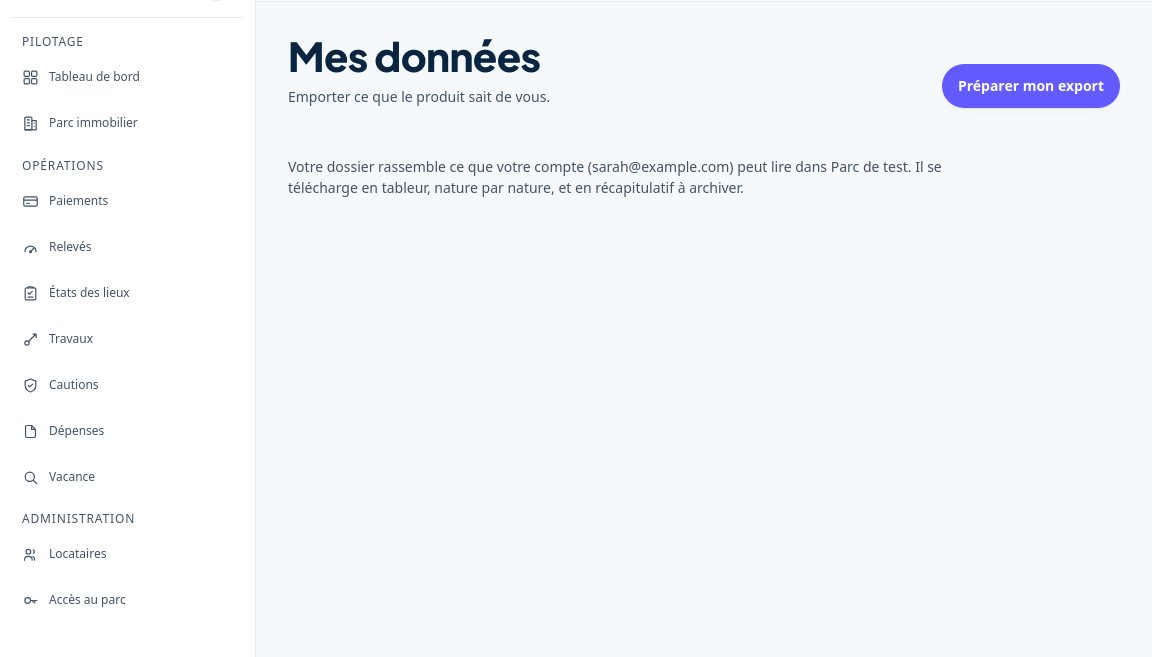
Test: l’écran « Mes données » › montre chaque nature du dossier, avec son nombre de lignes
Click the button "Préparer mon export". click: click(1031, 86)
box: [942,64,1120,108]
(page scrolled)
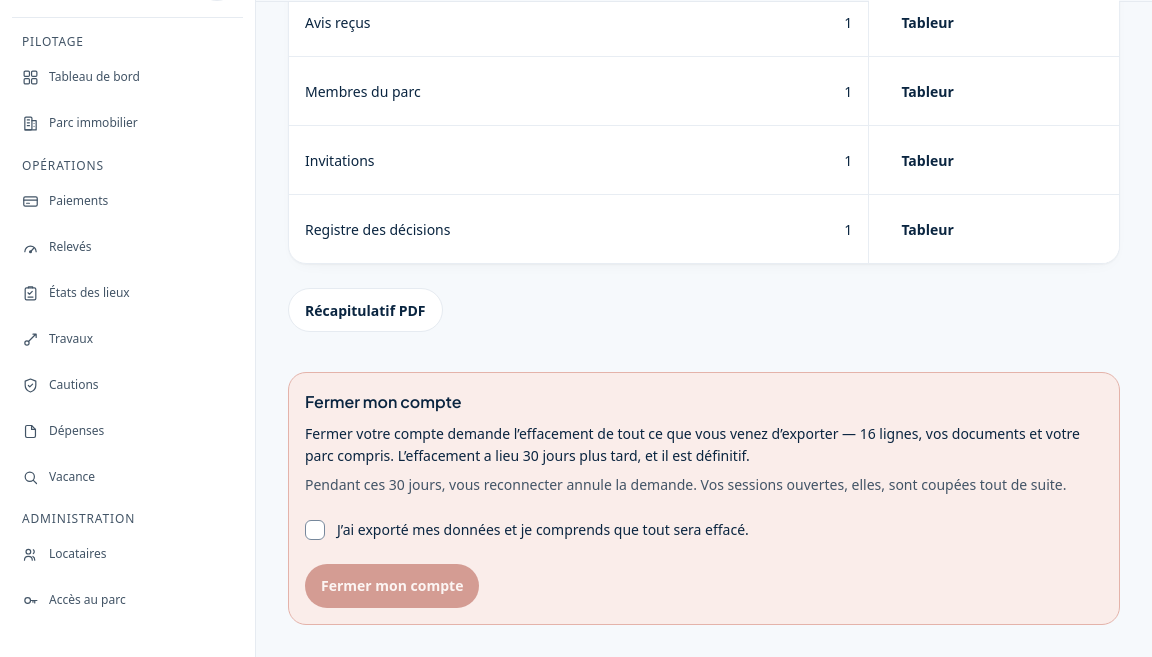
Now the button "Récapitulatif PDF" is shown, box [288,288,442,332]
